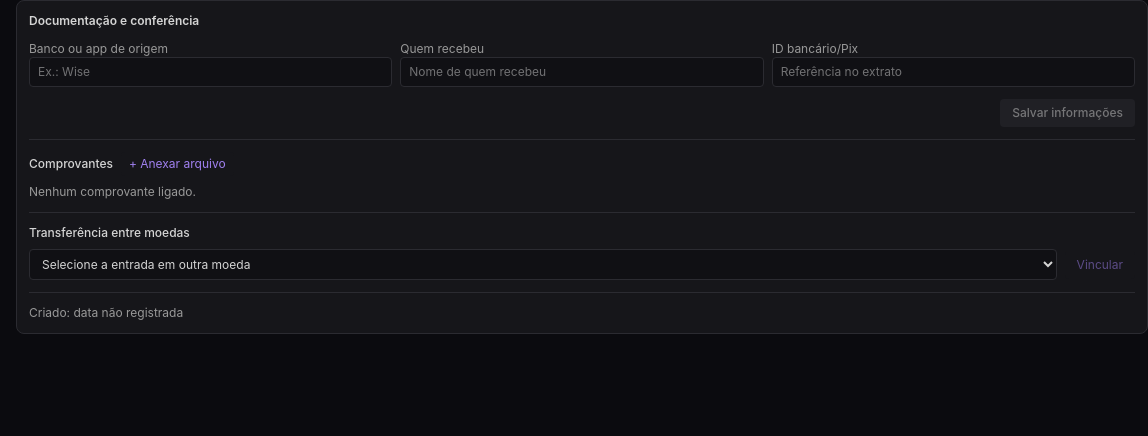
TransactionRecordPanel bank details › saves the three fields together only when Save is clicked
The width and height of the screenshot is (1148, 436).
In the field labelled "Banco ou app de origem": [211, 72] box [29, 57, 392, 87], type "Wise"
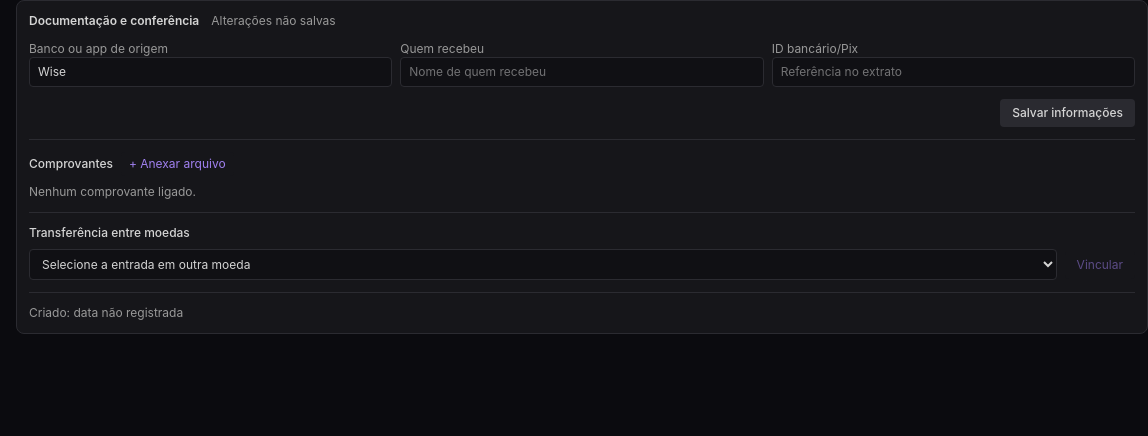
In the field labelled "Quem recebeu": [582, 72] box [400, 57, 764, 87], type "Loja"
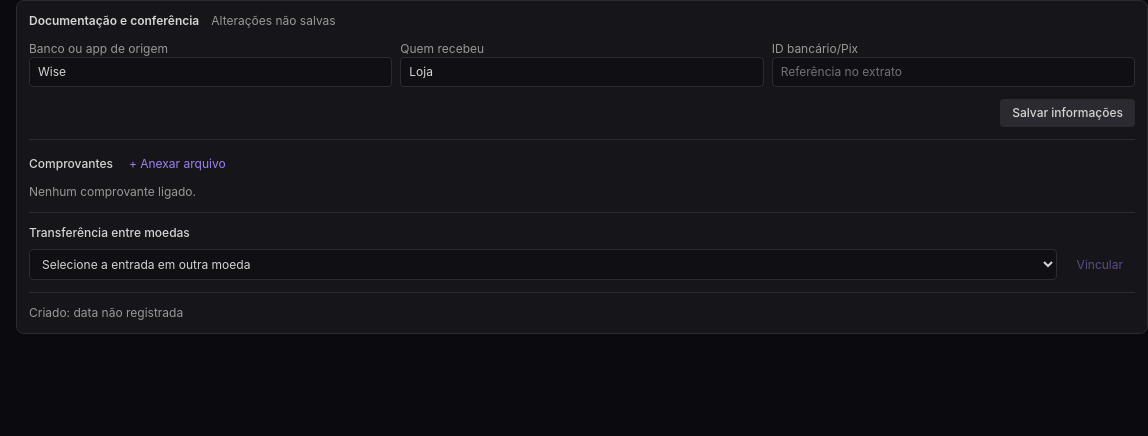
In the field labelled "ID bancário/Pix": [953, 72] box [772, 57, 1135, 87], type "ABC-123"
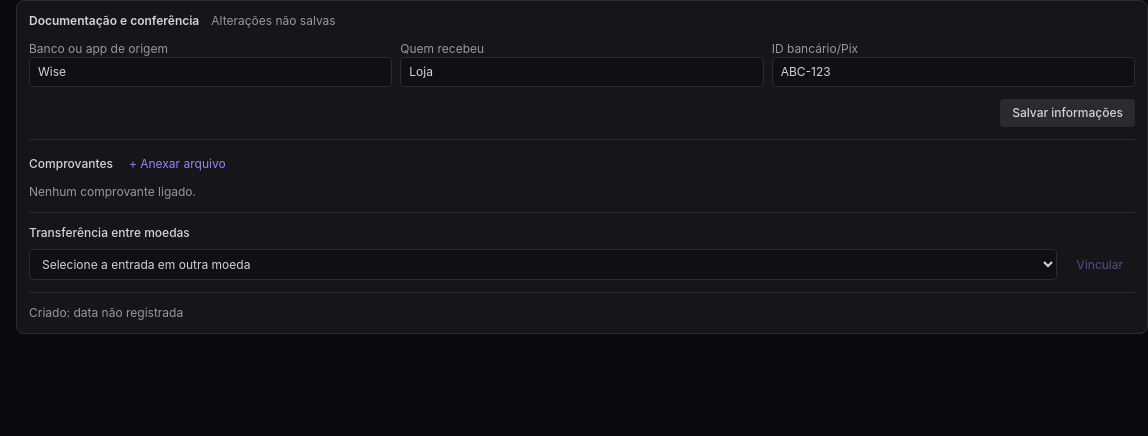
Check: the message reads "Alterações não salvas", box [211, 13, 336, 28]
Click the button "Salvar informações": [1068, 113] box [1000, 99, 1135, 127]
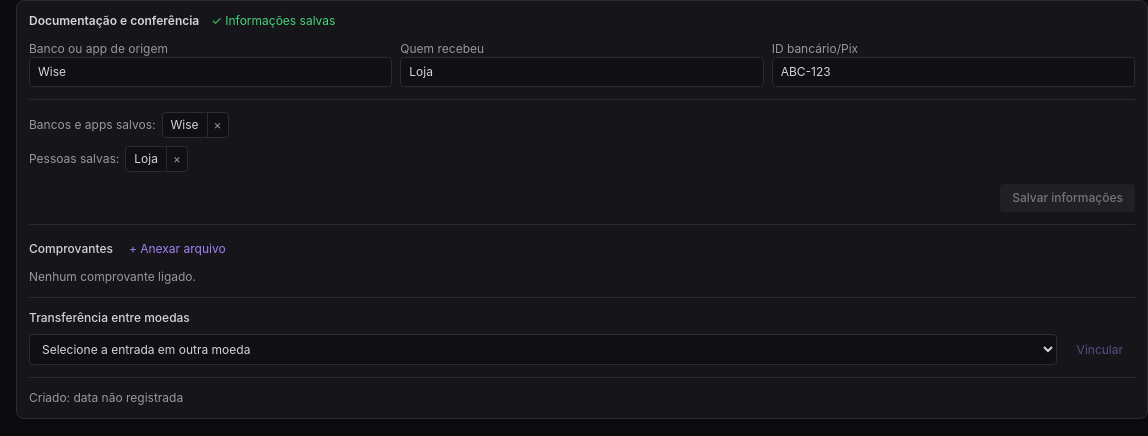
Check: the message shows "Informações salvas", box [211, 13, 335, 28]
